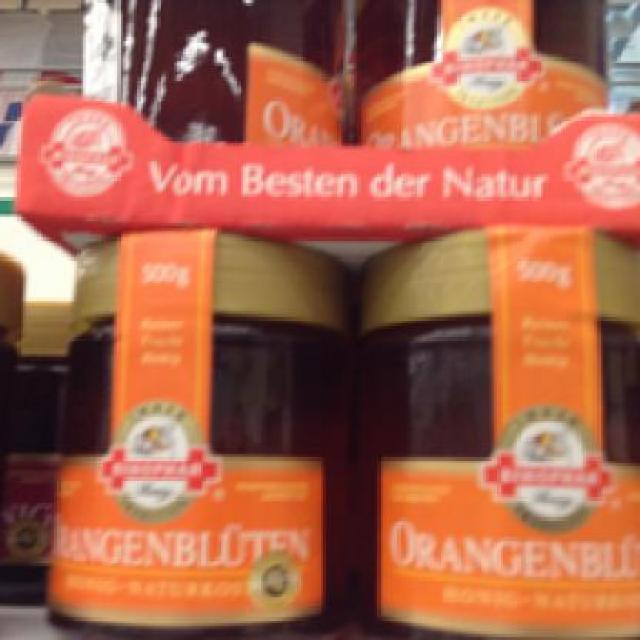Honey: (352, 222, 634, 638), (57, 232, 346, 634)
